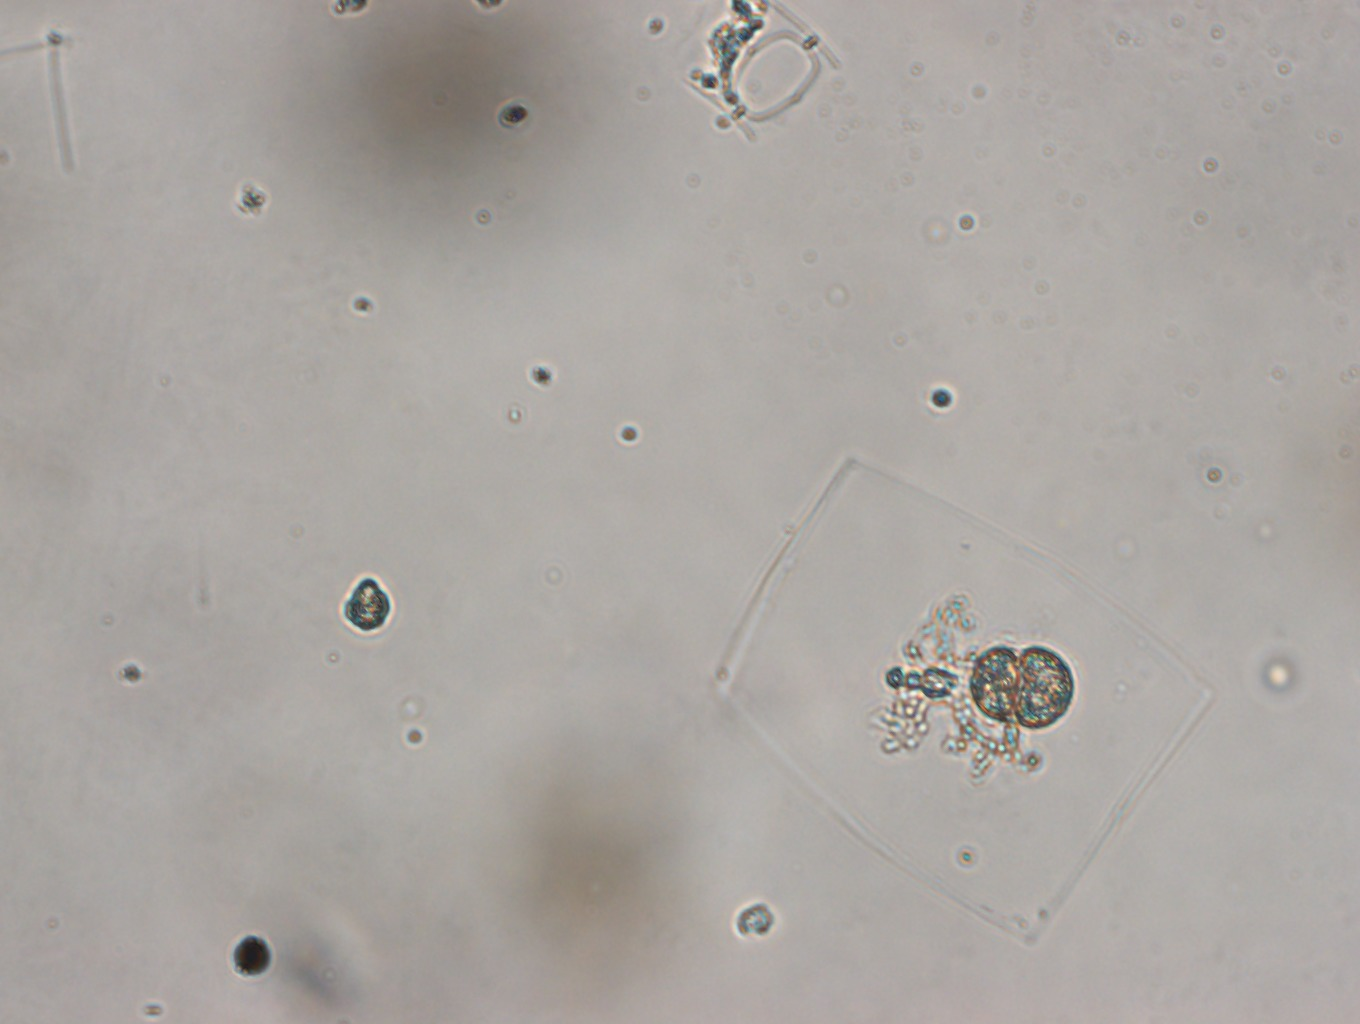eucampia: (672, 3, 841, 150)
helicotheca: (711, 449, 1226, 950)
